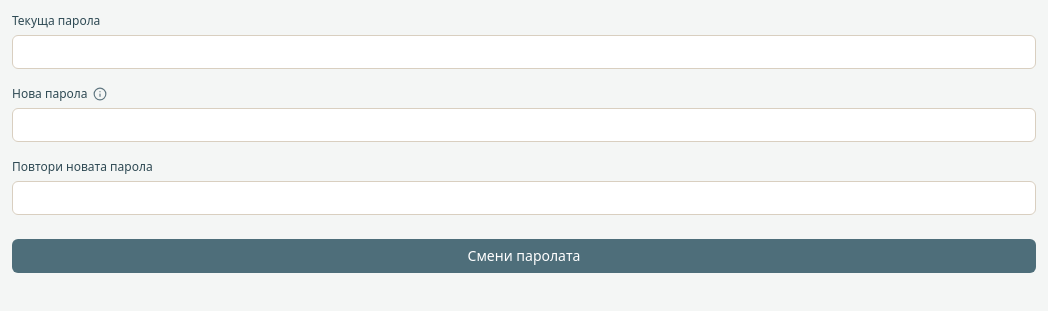
Test: ChangePasswordForm › stops a mismatched confirmation before the action runs
This screenshot has width=1048, height=311.
Type "old-secret-1" into the password field labelled "Текуща парола".
click(524, 52); type("old-secret-1")  # box [12,35,1036,69]
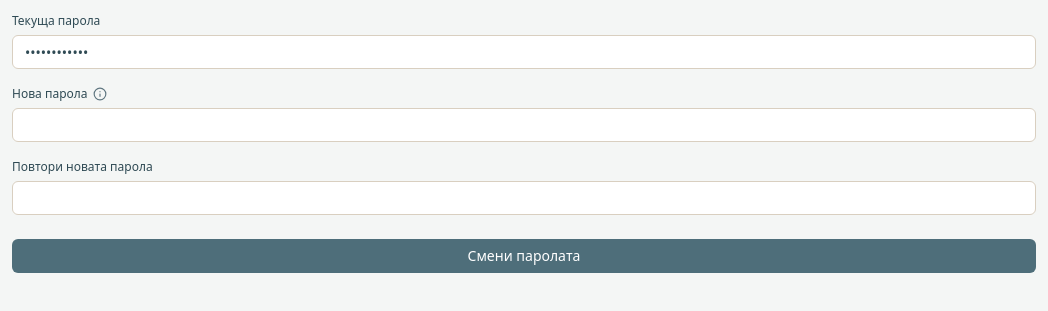
Type "new-secret-22" into the password field labelled "Нова парола".
click(524, 125); type("new-secret-22")  # box [12,108,1036,142]
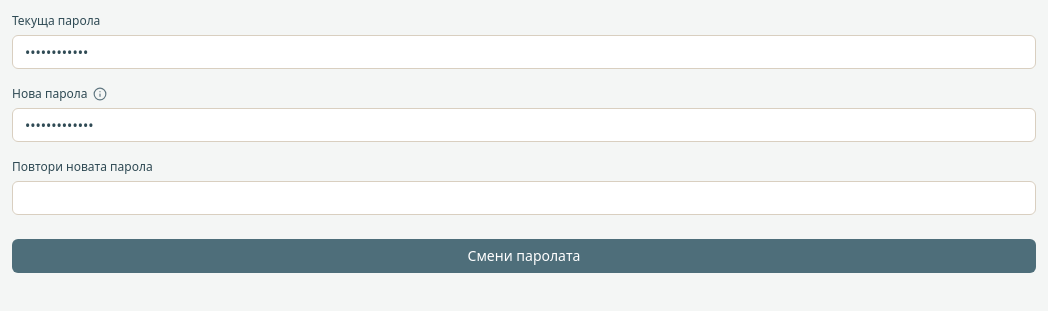
Type "nope" into the password field labelled "Повтори новата парола".
click(524, 198); type("nope")  # box [12,181,1036,215]
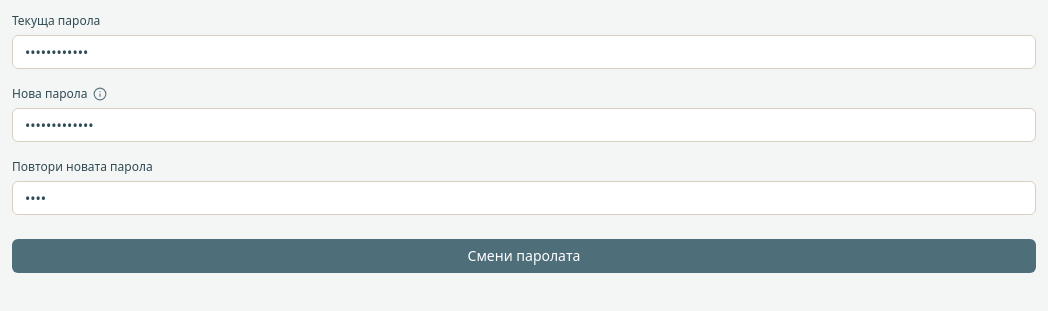
Submit the form from the button "Смени паролата", box [12,239,1036,273]
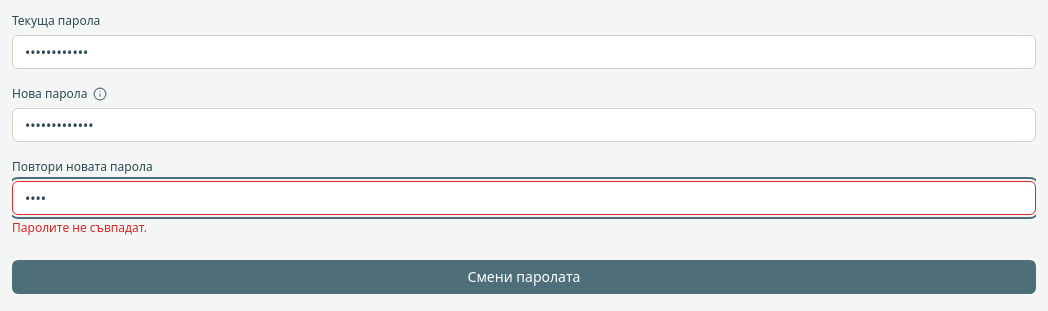
Now the text "Паролите не съвпадат." is shown, box [12,219,147,236]
